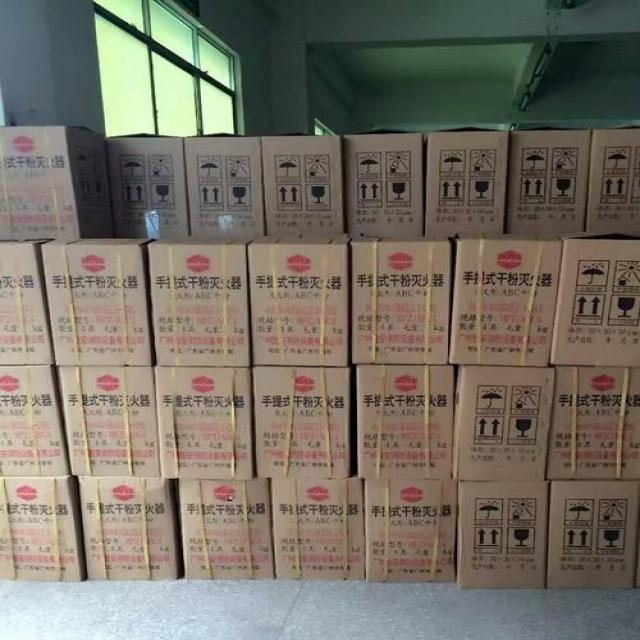box: (449, 232, 562, 367), (41, 238, 155, 366), (146, 237, 253, 367), (248, 236, 352, 367), (0, 126, 115, 240), (351, 236, 451, 364), (550, 231, 640, 368), (452, 366, 556, 482), (56, 365, 160, 478), (357, 364, 454, 480), (155, 367, 252, 482), (253, 366, 351, 479), (547, 367, 640, 480), (78, 476, 177, 581), (548, 479, 640, 589), (457, 481, 549, 589), (178, 478, 275, 580), (271, 477, 365, 580), (366, 478, 457, 581), (424, 127, 508, 237), (106, 132, 191, 239), (507, 126, 590, 234), (0, 477, 86, 581), (340, 128, 422, 236), (261, 131, 343, 237), (182, 132, 265, 236), (0, 366, 72, 478), (0, 240, 54, 365), (586, 125, 640, 233)
